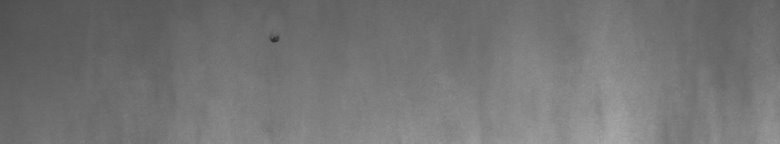fi: (268, 28, 283, 52)
